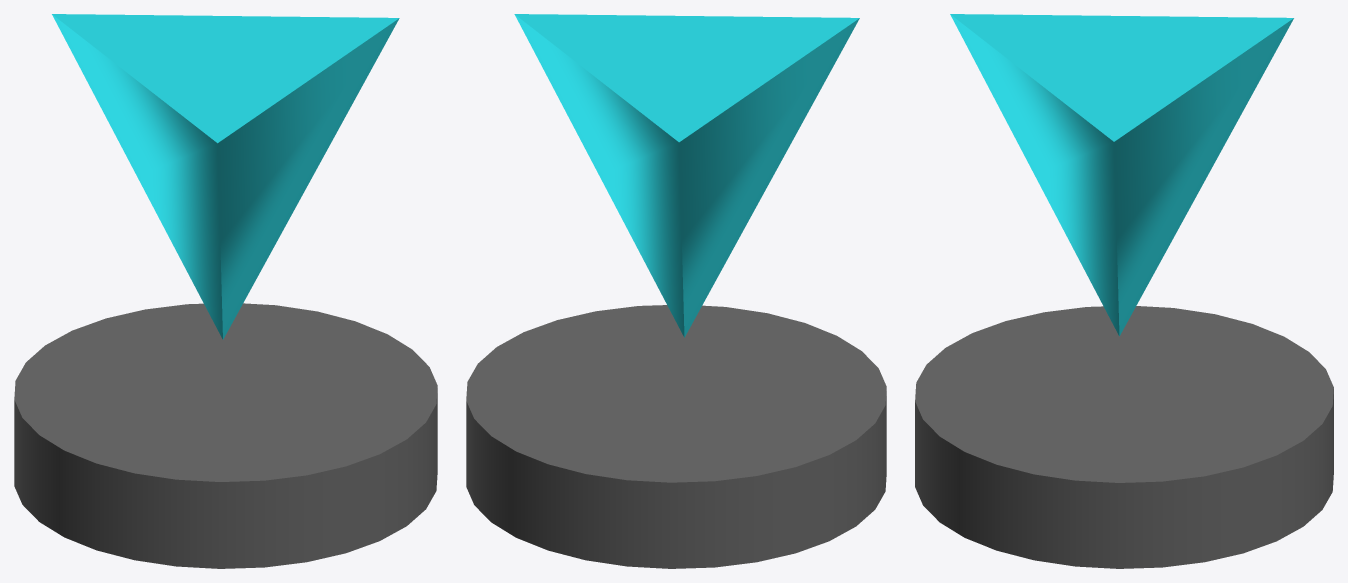
The model's file is pyrBlue.glb.
3 views of the same model, side by side, from view 1: azimuth 30°, elevation 25°; view 2: azimuth 150°, elevation 25°; view 3: azimuth 270°, elevation 25° (orthographic).
Visible parts, largest first — view 1: 022_Cylinder_-_baked, 021_Cone; view 2: 022_Cylinder_-_baked, 021_Cone; view 3: 022_Cylinder_-_baked, 021_Cone.
Part boxes in pixels (bbox=[...]): 022_Cylinder_-_baked: bbox=[14, 303, 437, 568]; 021_Cone: bbox=[52, 14, 399, 339]; 022_Cylinder_-_baked: bbox=[466, 305, 886, 568]; 021_Cone: bbox=[514, 14, 859, 337]; 022_Cylinder_-_baked: bbox=[915, 306, 1333, 568]; 021_Cone: bbox=[950, 14, 1293, 336].
Size of the model in its own units: 17.34 by 19.11 by 17.29.
